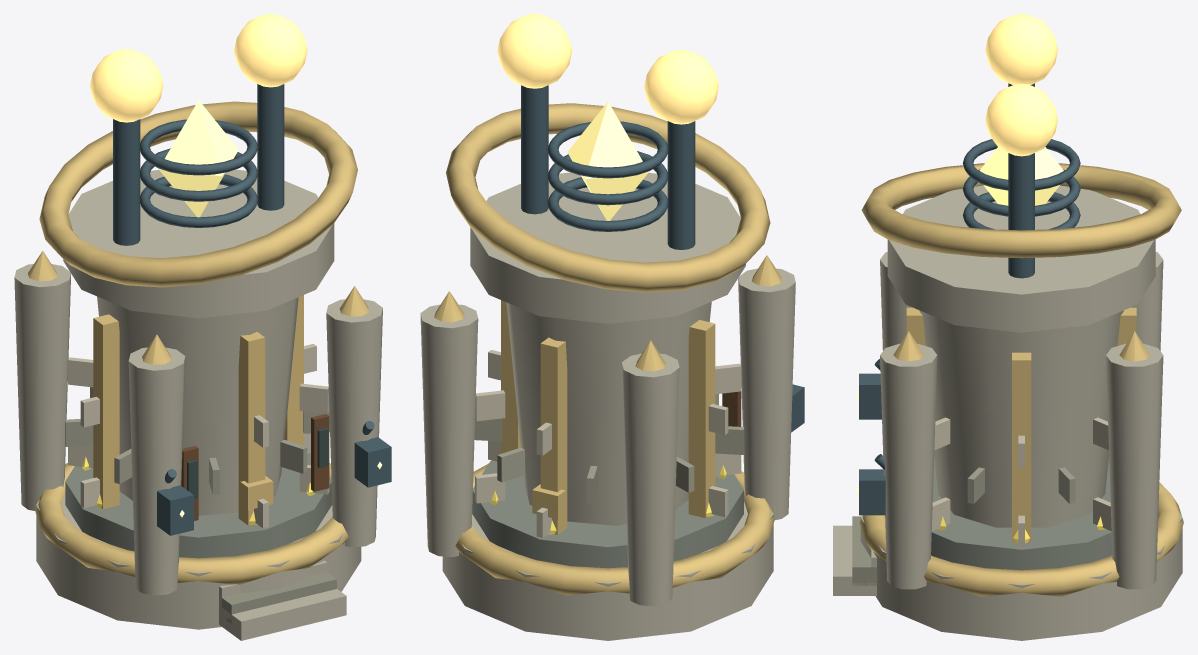
File: tower-thunder-2-base.glb
The picture shows the model from 3 angles, left to right: view 1: azimuth 30°, elevation 25°; view 2: azimuth 150°, elevation 25°; view 3: azimuth 270°, elevation 25°; orthographic projection. The views are drawn at different scales.
Visible parts, largest first — view 1: Foundation, Turret, thunder-L2-base; view 2: Foundation, Turret, thunder-L2-base; view 3: Foundation, Turret, thunder-L2-base.
Part boxes in pixels (left/top/right/bottom): Foundation: left=14, top=251, right=391, bottom=640; Turret: left=39, top=14, right=357, bottom=318; thunder-L2-base: left=36, top=453, right=361, bottom=629; Foundation: left=420, top=255, right=804, bottom=606; Turret: left=446, top=14, right=770, bottom=323; thunder-L2-base: left=442, top=460, right=773, bottom=640; Foundation: left=833, top=252, right=1183, bottom=596; Turret: left=861, top=14, right=1181, bottom=332; thunder-L2-base: left=860, top=456, right=1182, bottom=640.
Bounding box in the file's own units: 1.69 × 3 × 1.83.
